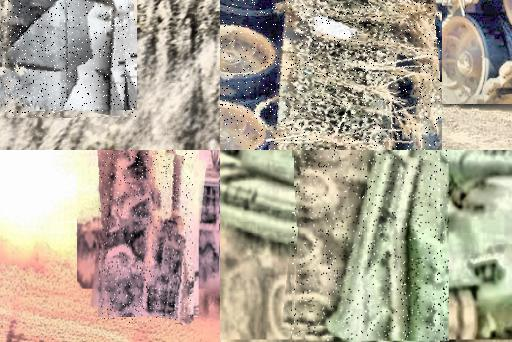tanks: (221, 1, 436, 151), (293, 151, 450, 342), (101, 151, 194, 324), (3, 1, 130, 118)
